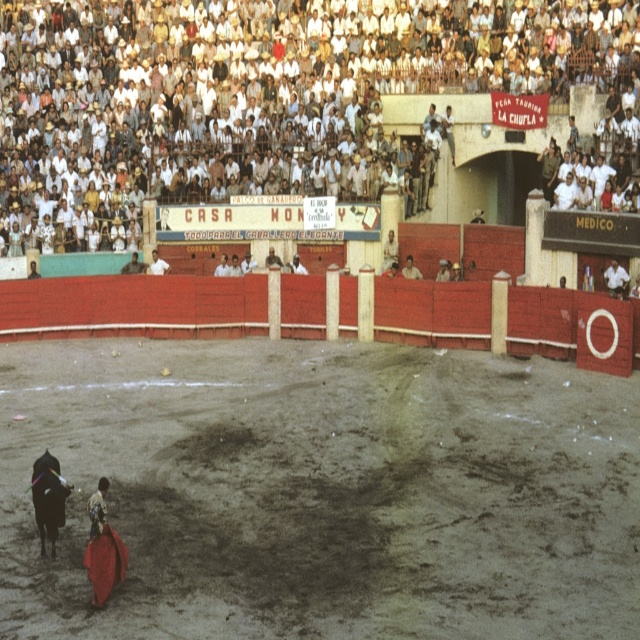Bull: (24, 448, 74, 559)
